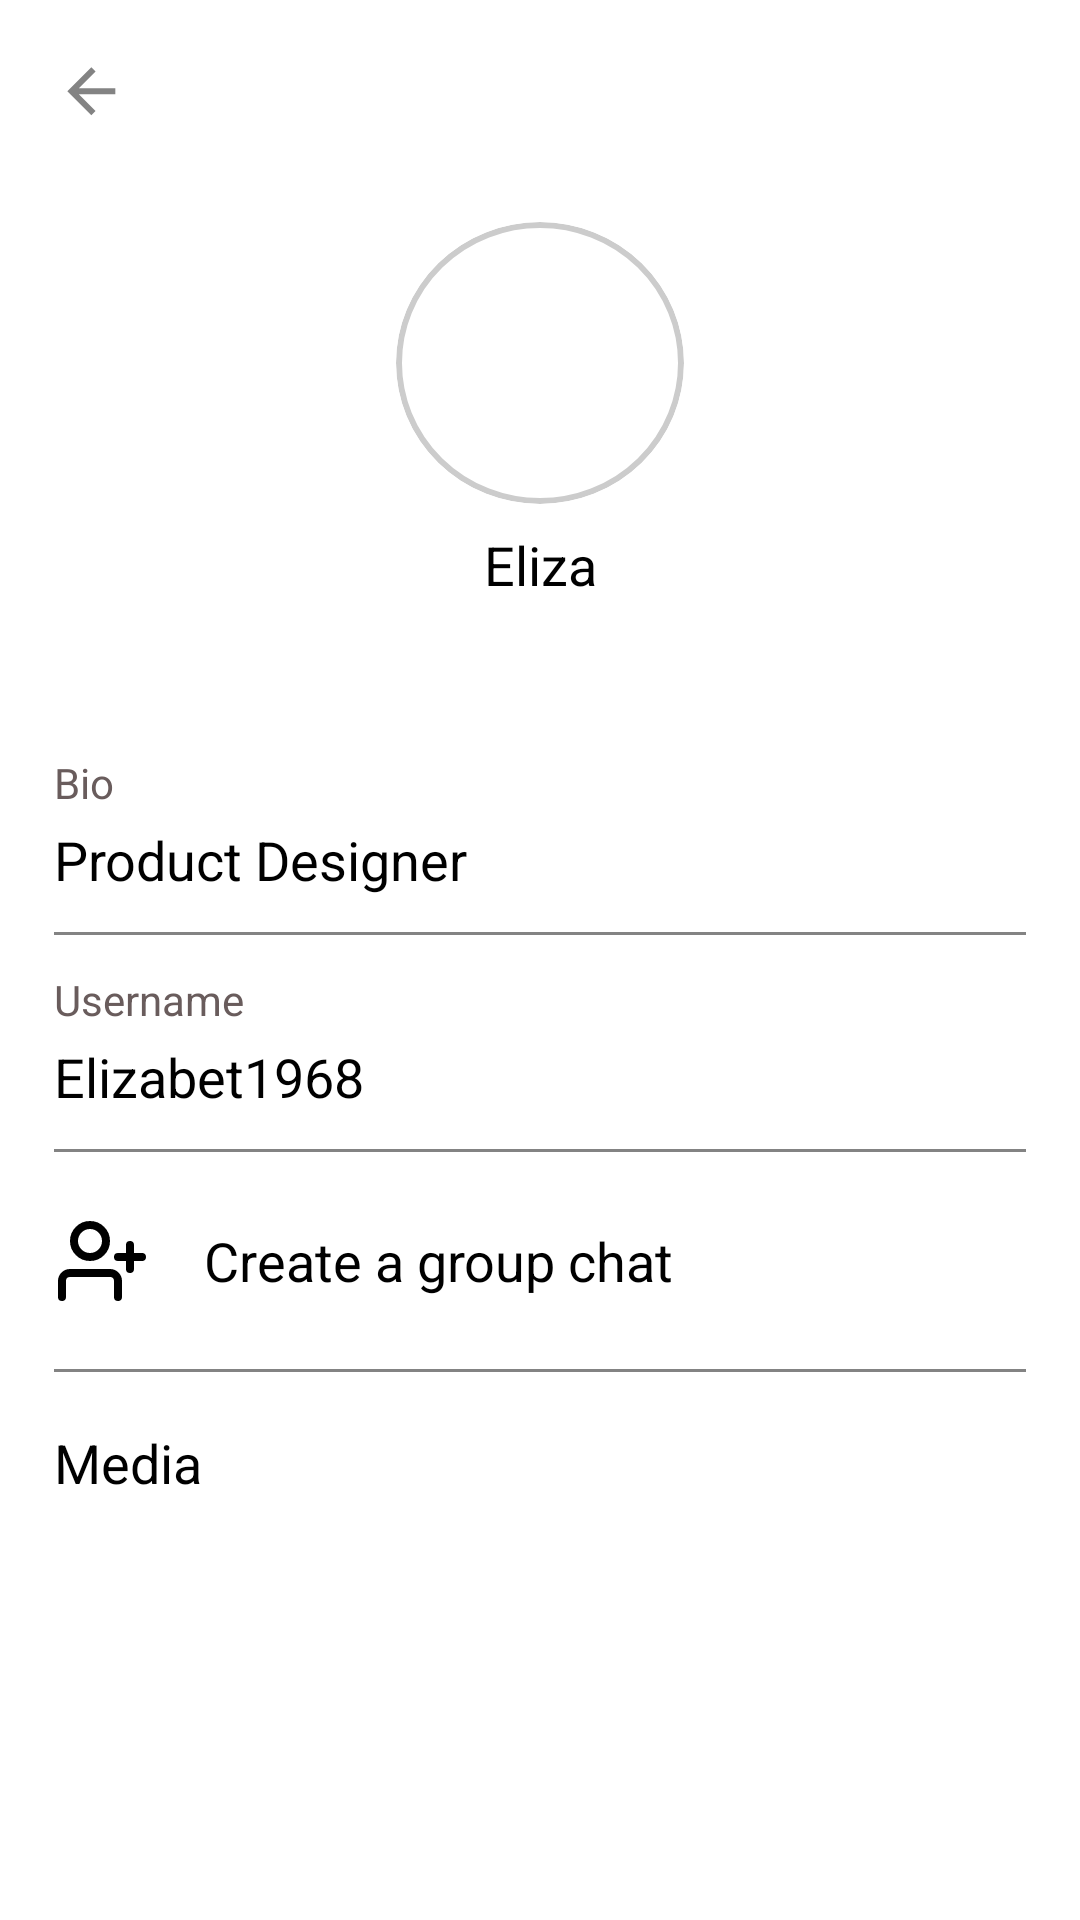

Point at icon controls on the screen. Image size 1080 × 1920, points as point (x, y).
back: point (91, 91)
invitefriends: point (102, 1261)
